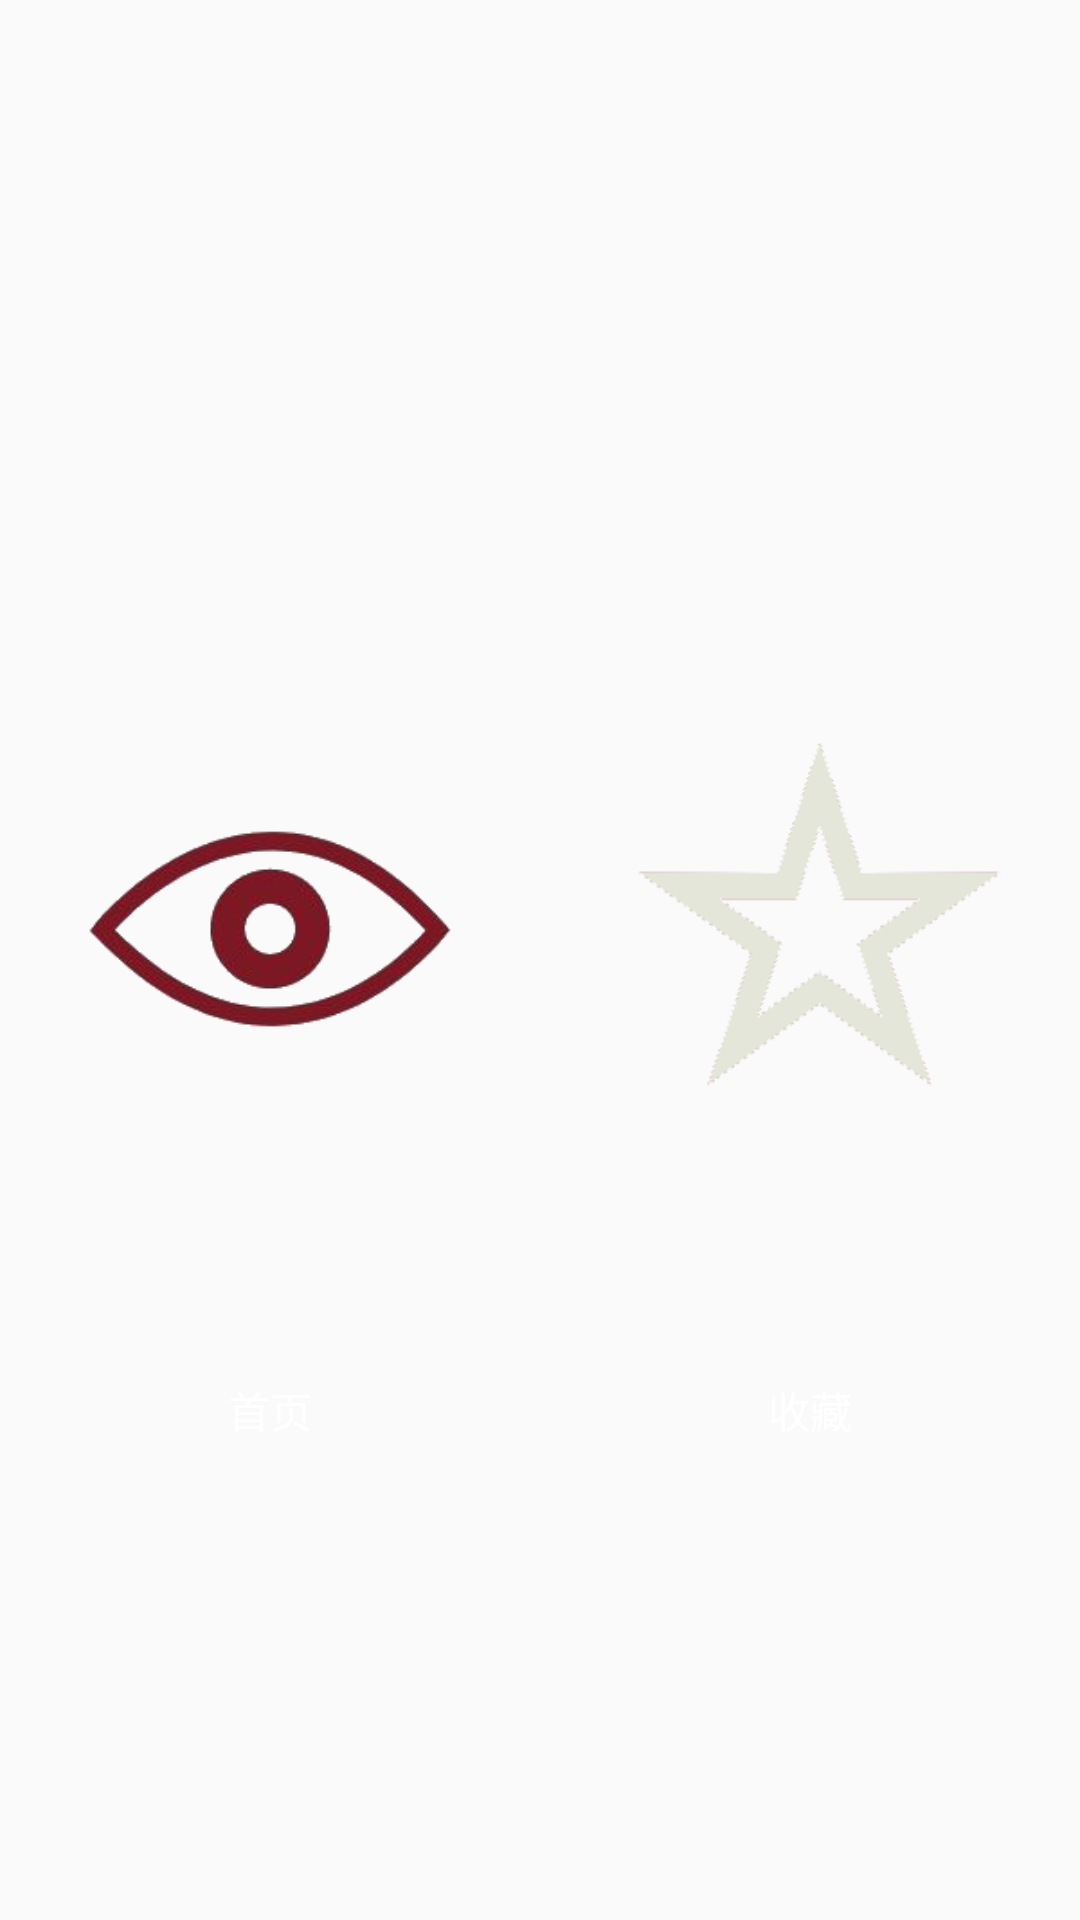

Where to tap for icons on this 1080×1920 app screen, as (x,y):
collect: (818,914)
